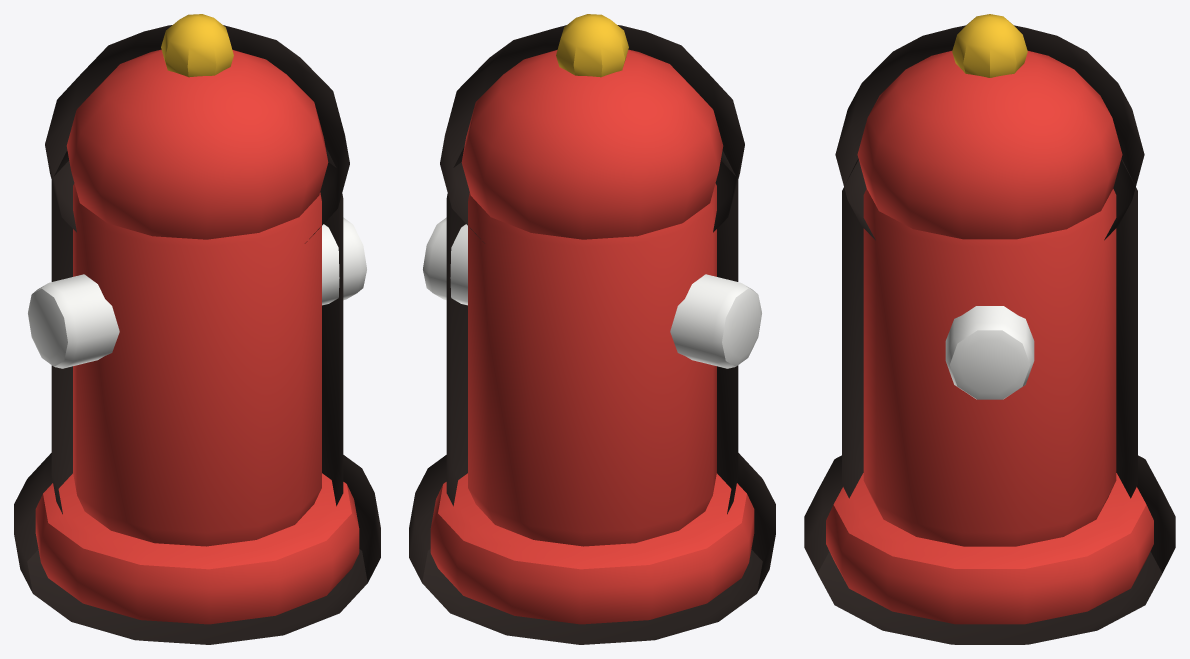
Rendered from Hydrant.fbx.
The picture shows the model from 3 angles, left to right: view 1: azimuth 30°, elevation 25°; view 2: azimuth 150°, elevation 25°; view 3: azimuth 270°, elevation 25°; orthographic projection.
Visible parts, largest first — view 1: PR_Hydrant_Red, PR_Hydrant_Outline, PR_Hydrant_White, PR_Hydrant_Yellow; view 2: PR_Hydrant_Red, PR_Hydrant_Outline, PR_Hydrant_White, PR_Hydrant_Yellow; view 3: PR_Hydrant_Red, PR_Hydrant_Outline, PR_Hydrant_White, PR_Hydrant_Yellow.
Boxes of the visible parts, <box> form: PR_Hydrant_Red: <box>35,49,359,624</box>; PR_Hydrant_Outline: <box>14,25,380,644</box>; PR_Hydrant_White: <box>28,217,366,368</box>; PR_Hydrant_Yellow: <box>161,14,233,77</box>; PR_Hydrant_Red: <box>430,49,754,624</box>; PR_Hydrant_Outline: <box>409,25,775,644</box>; PR_Hydrant_White: <box>423,217,761,368</box>; PR_Hydrant_Yellow: <box>556,14,628,77</box>; PR_Hydrant_Red: <box>826,51,1153,624</box>; PR_Hydrant_Outline: <box>804,25,1175,644</box>; PR_Hydrant_White: <box>945,306,1034,399</box>; PR_Hydrant_Yellow: <box>952,14,1027,77</box>.
Size of the model in its own units: 0.5739 by 0.9942 by 0.5887.
